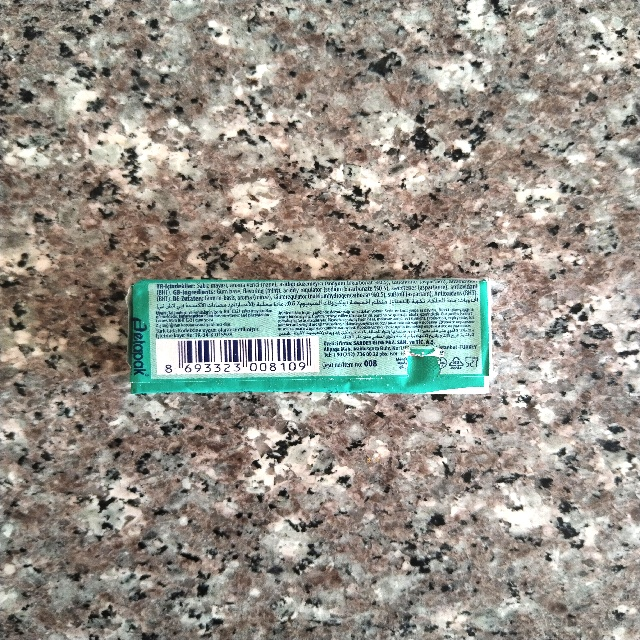nazar_naneli_sakiz: (128, 280, 490, 392)
